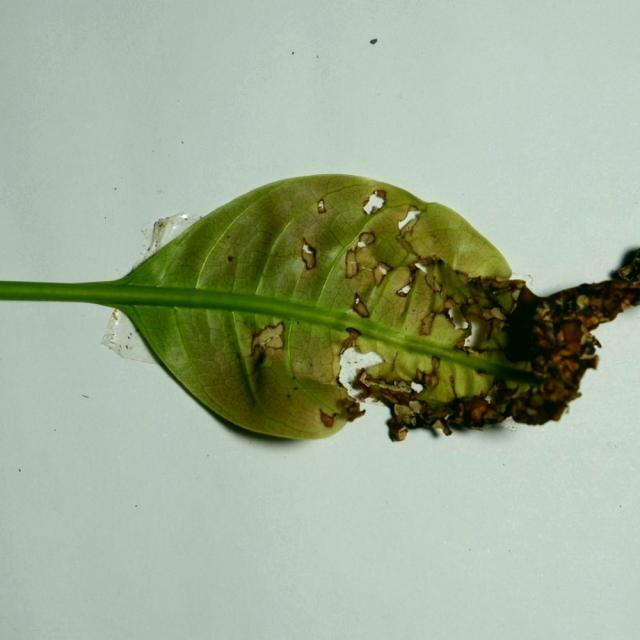Anthracnose: (507, 351, 600, 423), (393, 340, 495, 405), (283, 312, 347, 406), (451, 278, 509, 349), (368, 263, 417, 327), (395, 266, 439, 330), (356, 371, 415, 401), (432, 275, 476, 310), (423, 312, 464, 348), (345, 262, 377, 302), (362, 356, 401, 384), (613, 244, 639, 285), (393, 227, 422, 261), (489, 284, 515, 314), (351, 242, 377, 272), (567, 292, 595, 318), (513, 284, 540, 309), (339, 328, 362, 357), (414, 366, 439, 391), (399, 213, 421, 235), (372, 263, 390, 286), (352, 294, 369, 318), (345, 250, 359, 278), (424, 273, 441, 294), (582, 334, 600, 353), (396, 278, 414, 297), (262, 343, 281, 359), (414, 256, 434, 270), (506, 279, 527, 292), (583, 355, 599, 372), (491, 278, 513, 289), (358, 232, 375, 246), (457, 270, 470, 285), (431, 355, 440, 374), (261, 354, 273, 368), (407, 262, 418, 274), (431, 253, 442, 264), (396, 289, 408, 298), (396, 233, 406, 242)
Mango: (0, 175, 639, 444)
